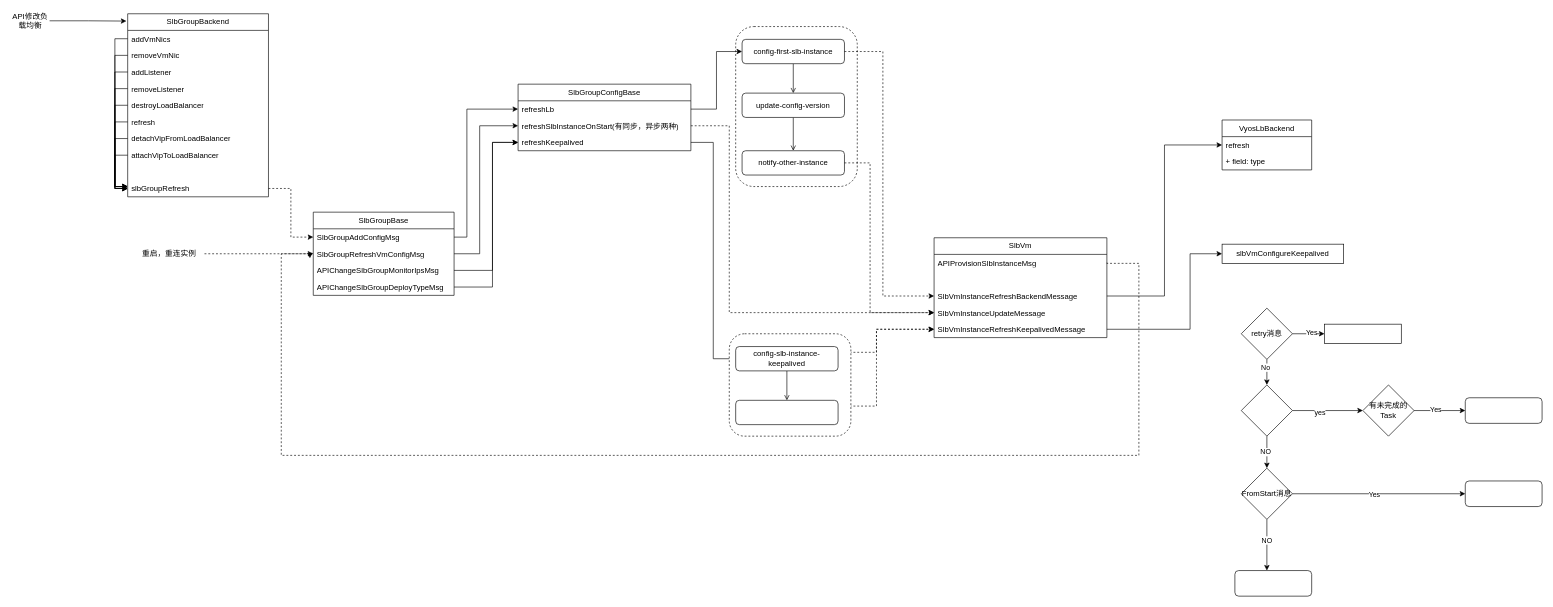
The diagram is 1553 pixels wide and 607 high, and some of its shapes have lost their labels. Each missing label, with the centre of its shape:
"config-peer-instance-keepalived" goes at pixel 786 412.
"Update消息" goes at pixel 1266 410.
"任务加入队列" goes at pixel 1503 410.
"删除历史任务" goes at pixel 1503 493.
"延迟60s执行" goes at pixel 1362 333.
"执行配置任务" goes at pixel 1273 583.
